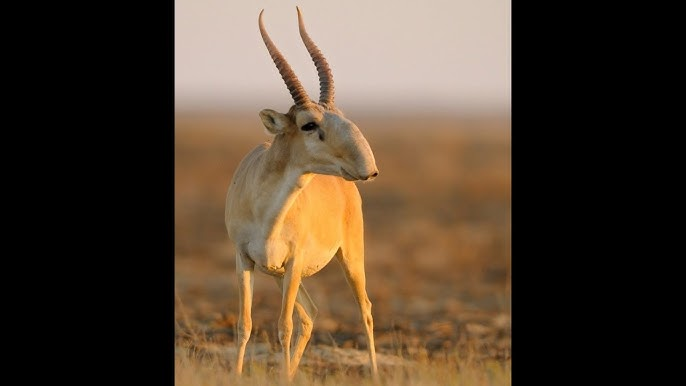saiga: (223, 6, 386, 386)
